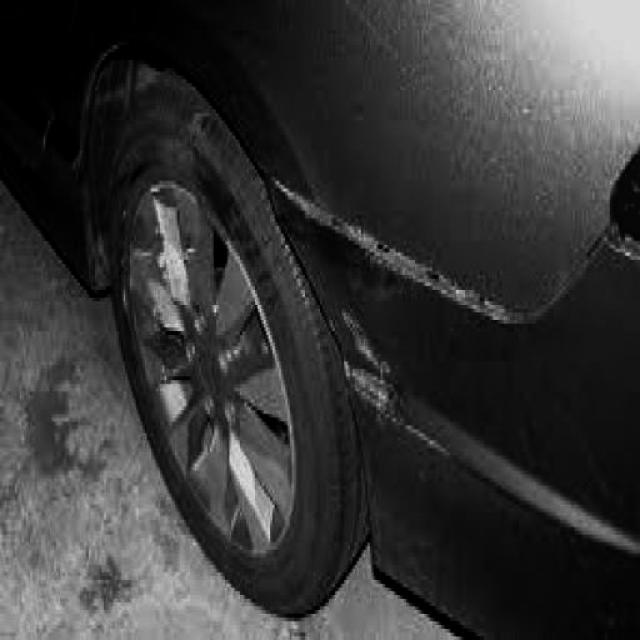car damage: (275, 161, 517, 328), (336, 294, 455, 462)
